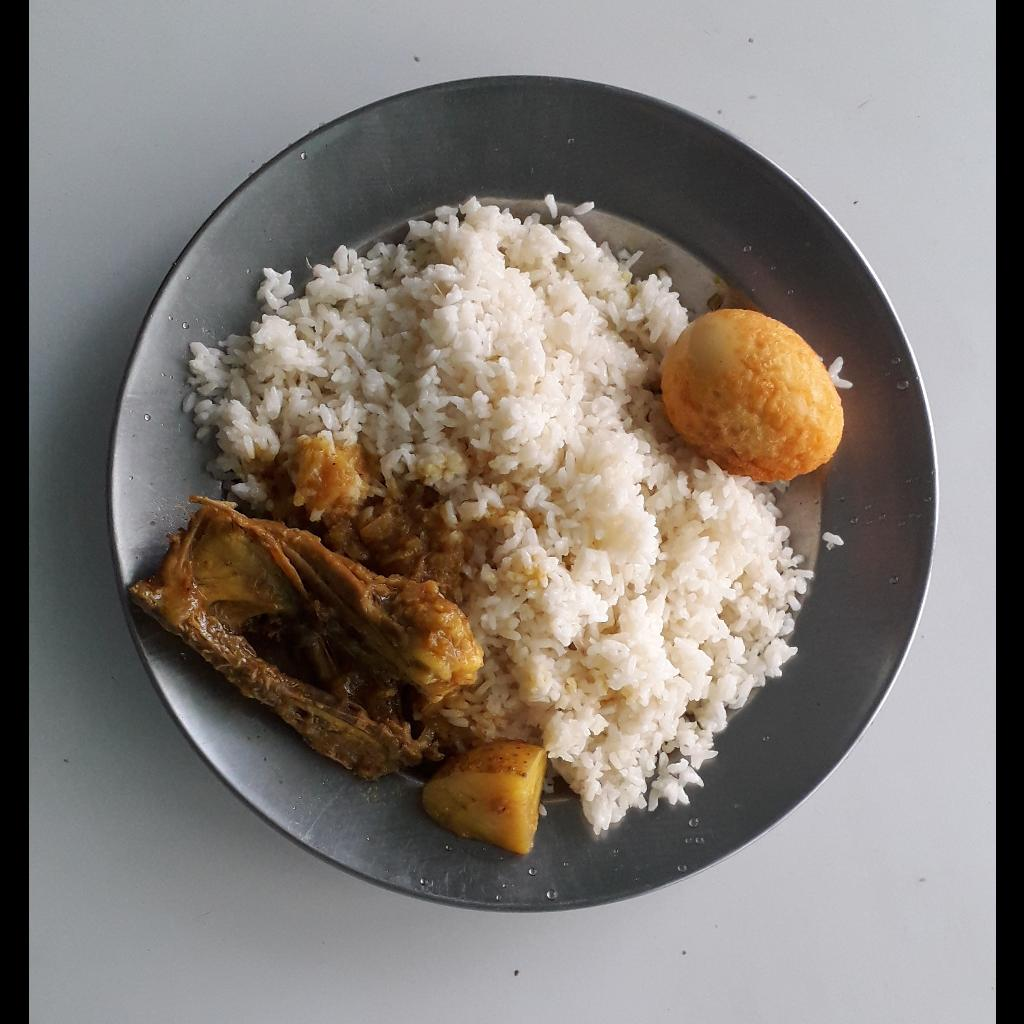chicken: (127, 494, 483, 784)
egg-boiled: (658, 304, 847, 485)
potato: (414, 742, 548, 856)
rice: (183, 195, 808, 839)
